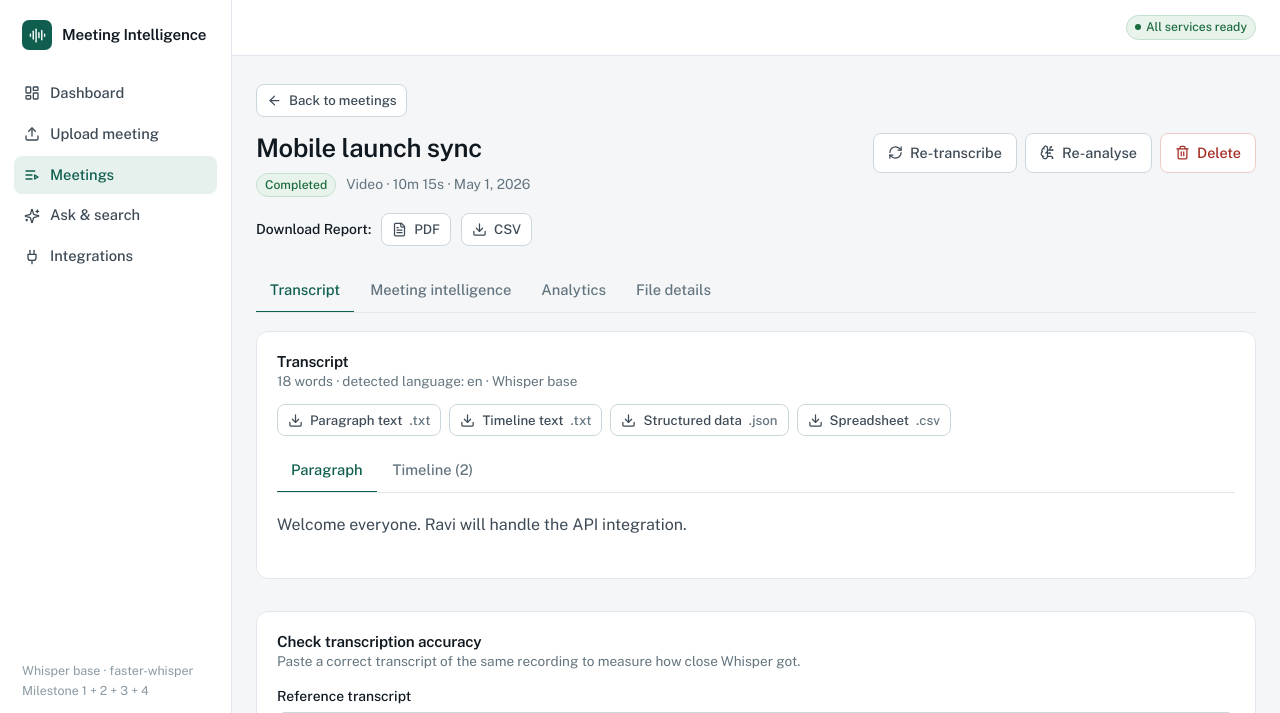
it: application screens › renders a meeting with its transcript and intelligence
Check: the heading "Mobile launch sync" is shown, box [256,133,482,163]
Check: the text "Welcome everyone. Ravi will handle the API integration." is shown, box [277,515,687,534]
Note: Switch to the intelligence tab and check the analysis rendered.
Click the tab "Meeting intelligence": (441,291) [356,270,525,313]
(page scrolled)
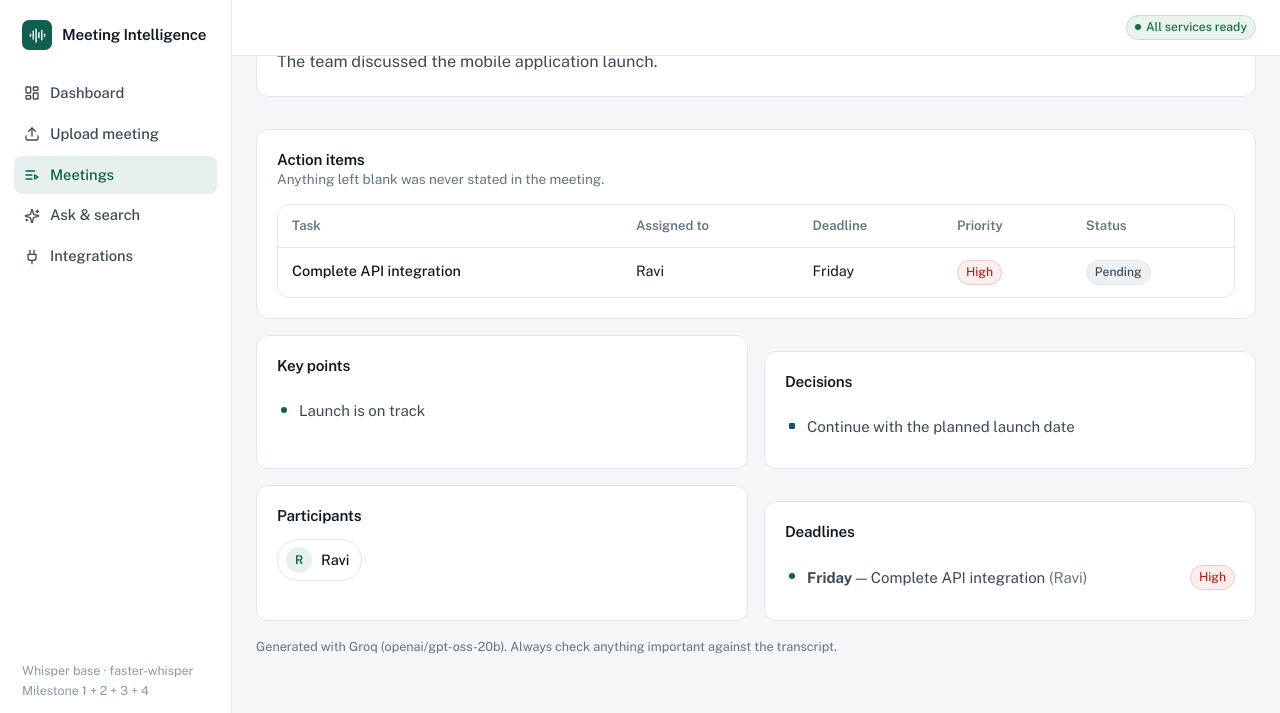
Check: the text "The team discussed the mobile application launch." is shown, box [277,51,657,71]
Check: the text "Complete API integration" is shown, box [292,262,461,279]
Check: the list item "Continue with the planned launch date" is shown, box [807,418,1075,435]
